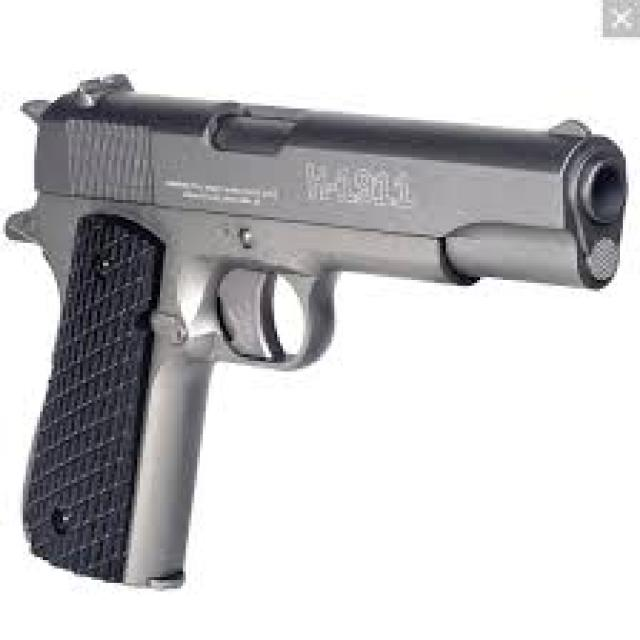pistol: (1, 70, 640, 605)
